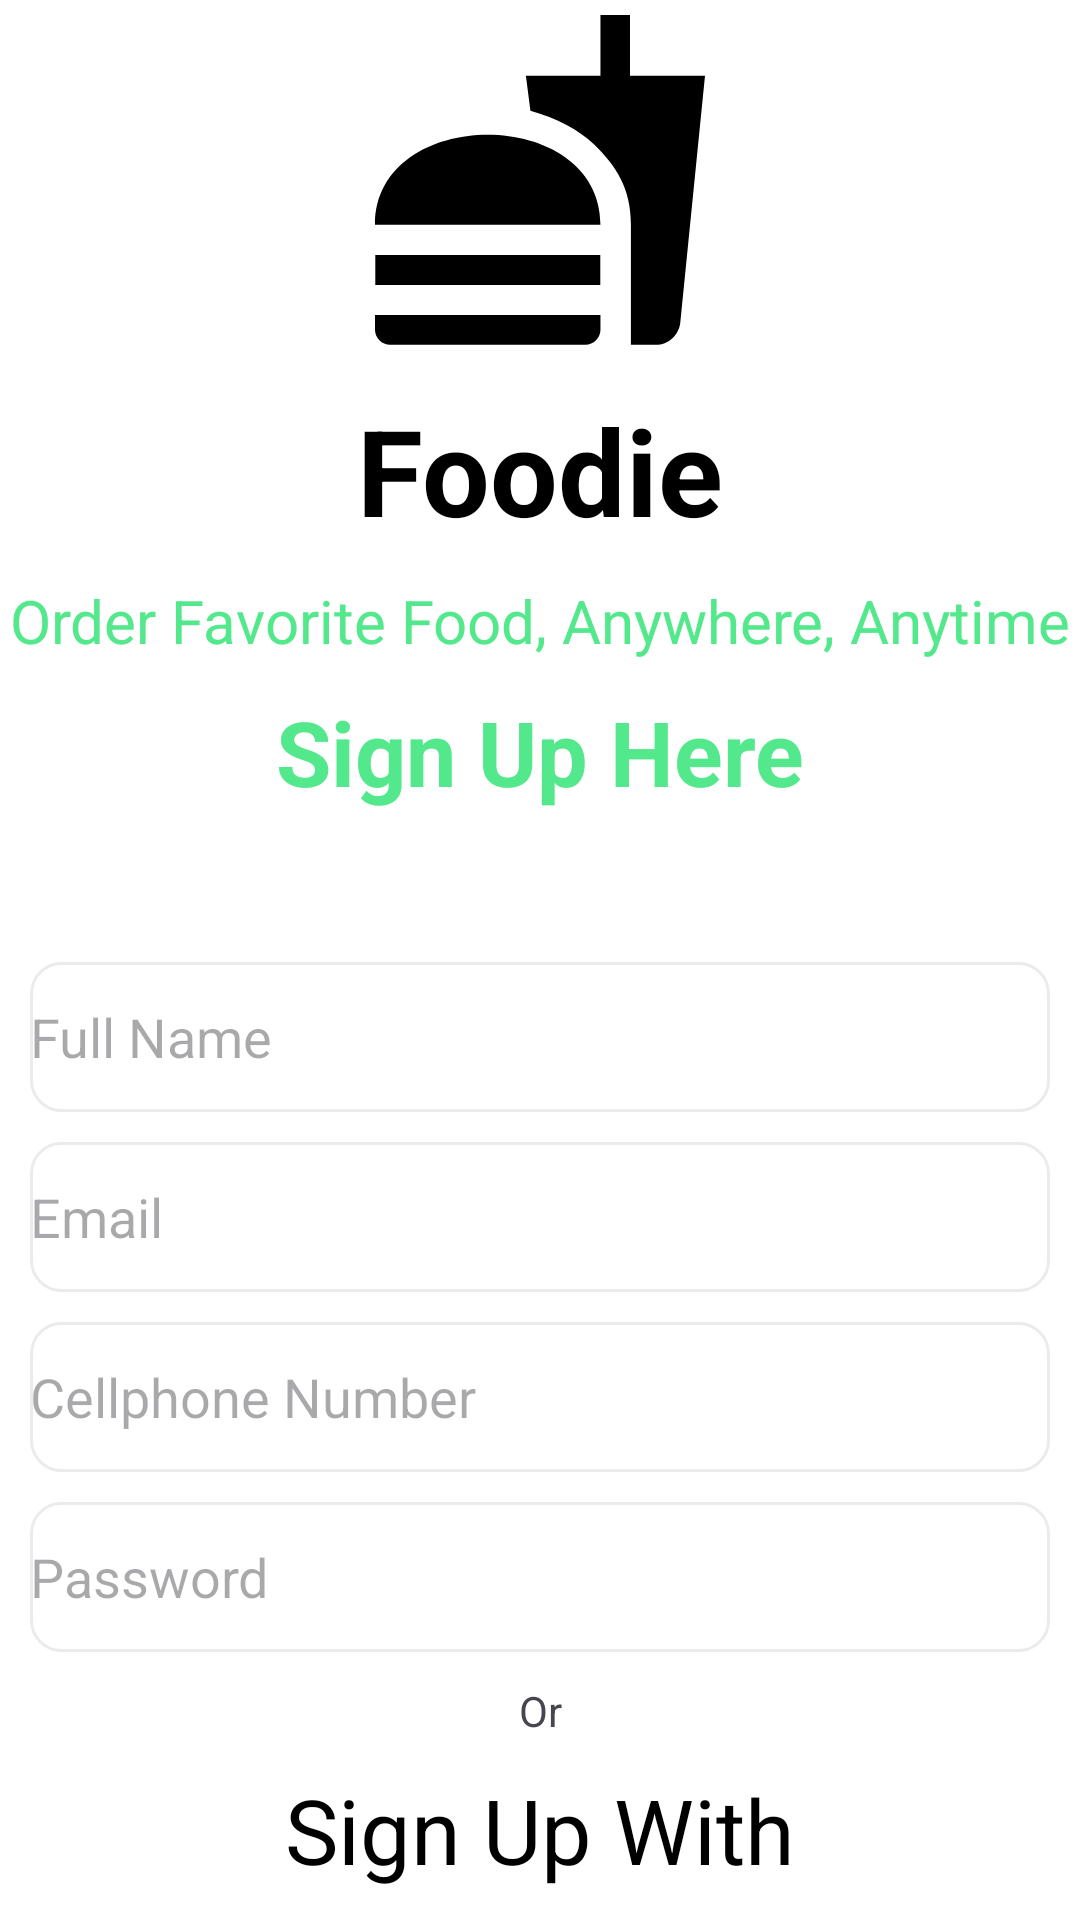

Icon click points for this 1080×1920 phone screenshot, format (x=x, y=y):
fastfood: (x=540, y=180)
